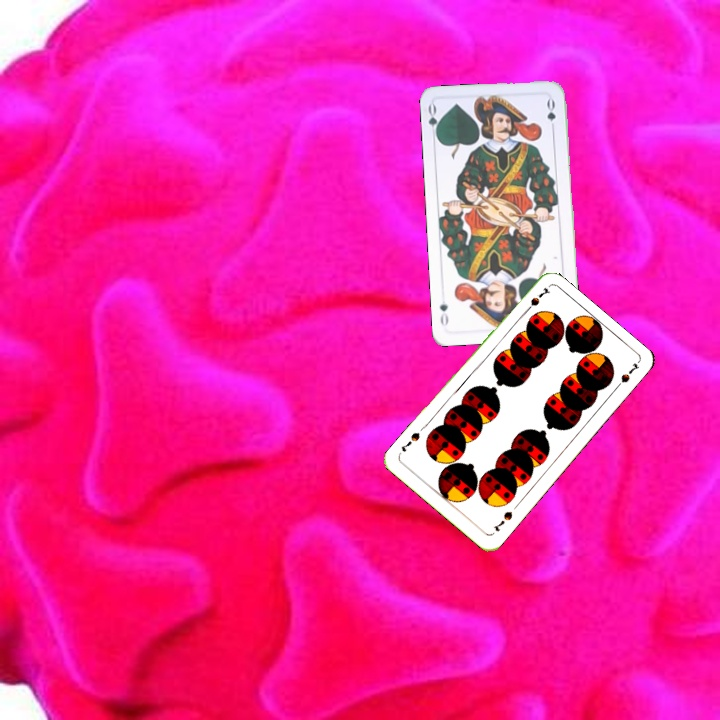GO: (424, 101, 443, 142)
S7: (519, 283, 551, 316), (490, 507, 515, 534)
